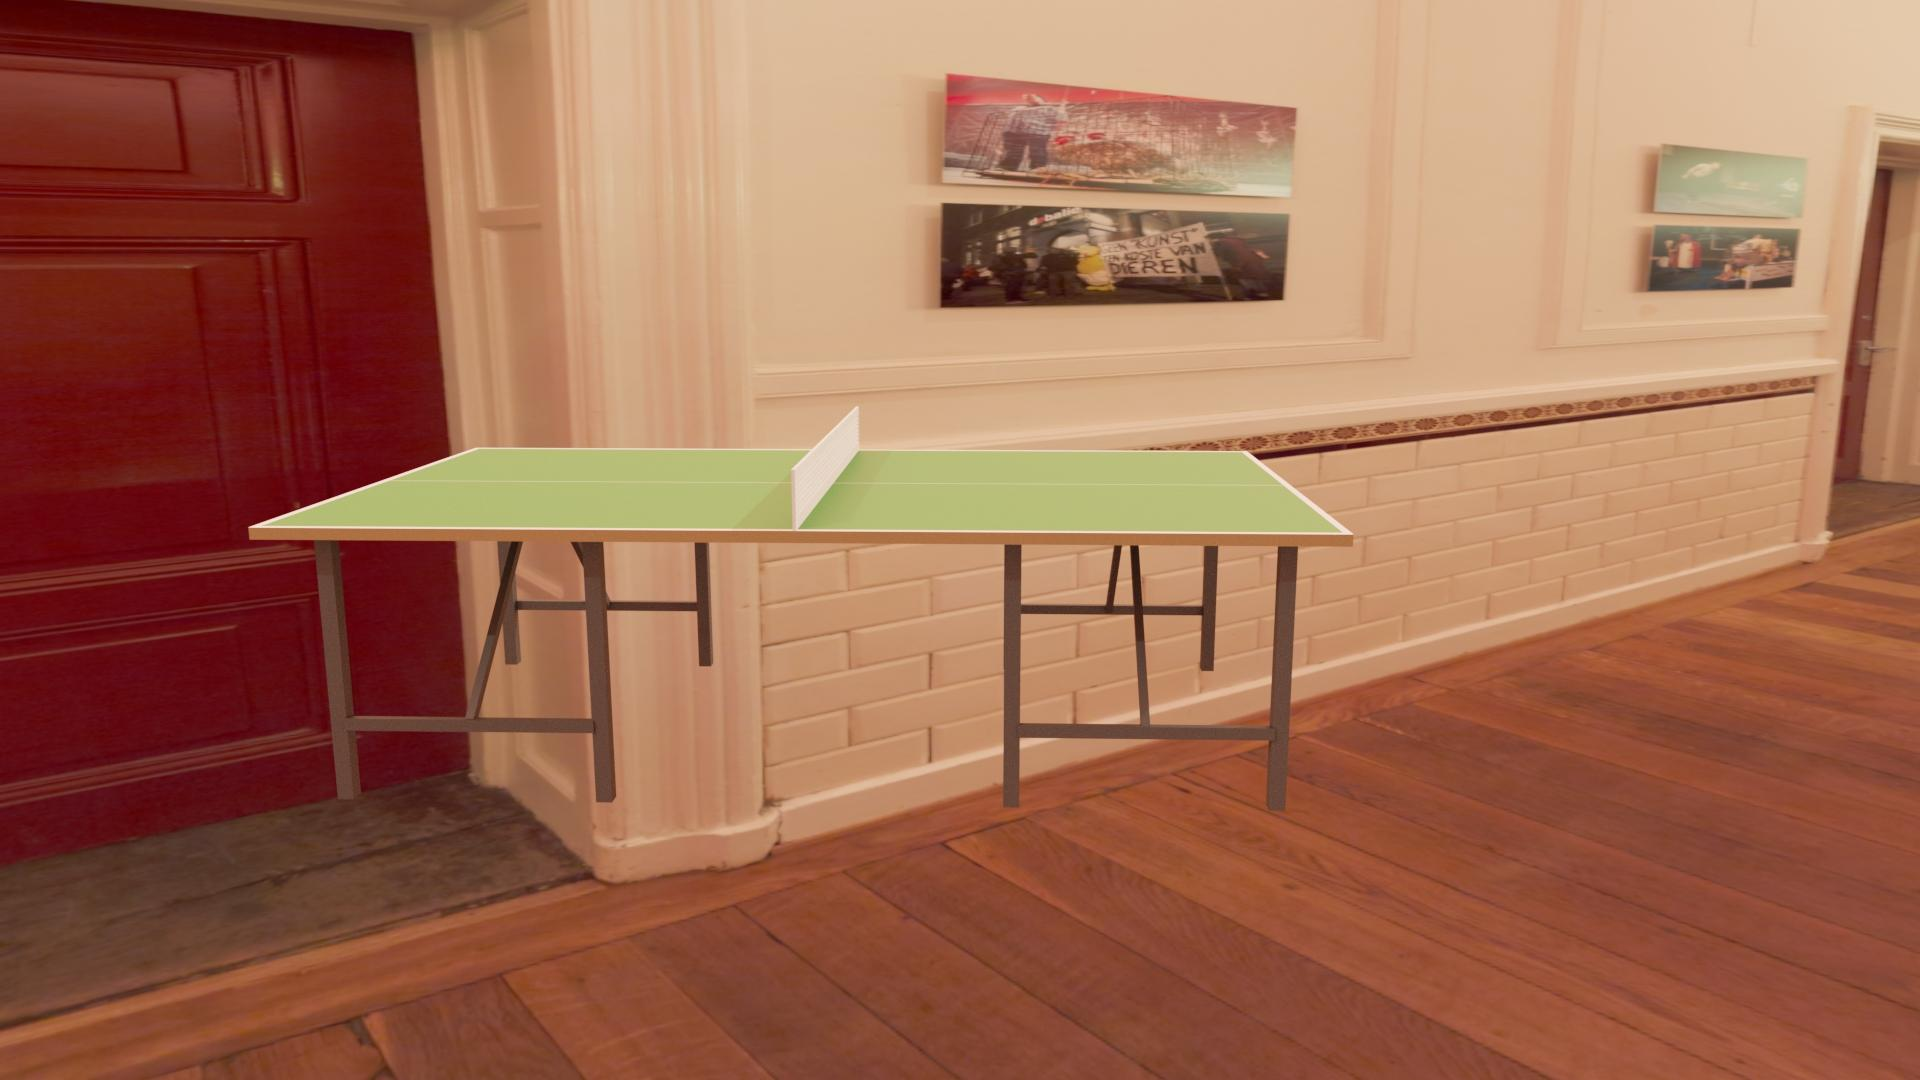table: (260, 448, 1344, 533)
